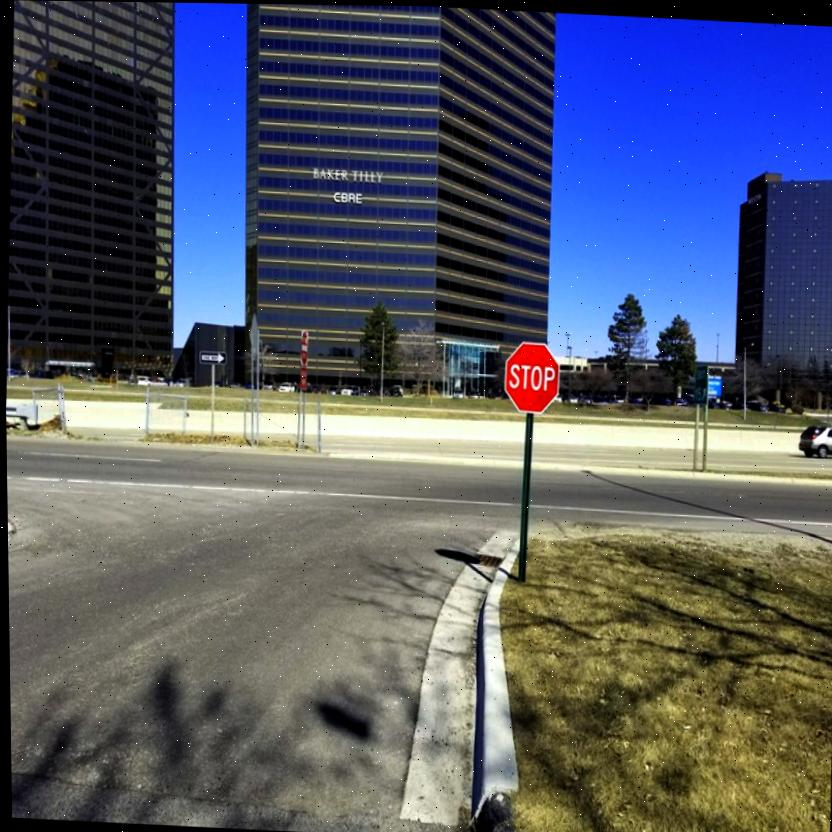Pole: (516, 413, 535, 581), (209, 364, 215, 444), (295, 388, 301, 447), (300, 390, 305, 448)
Sign: (501, 339, 560, 412)
